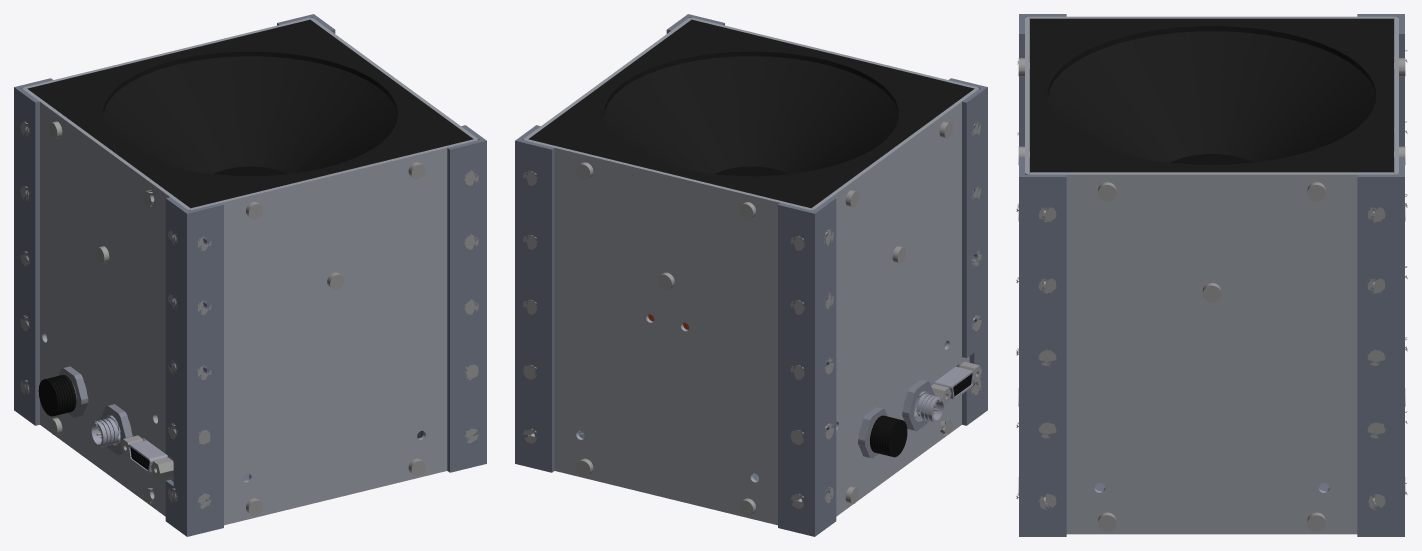
File: SLANT-1U-Assembly-2026-10-10-view.glb
3 renders of one model, left to right at view 1: azimuth 30°, elevation 25°; view 2: azimuth 150°, elevation 25°; view 3: azimuth 270°, elevation 25°, orthographic. The views are drawn at different scales.
Visible parts, largest first — view 1: 16_SLANT-H06_panel_-Y, 16_SLANT-H02_top_plate_with_baffle, 16_SLANT-H03_panel_-X_connectors, 16_SLANT-H08_corner_angle_notched_-X-Y, 16_SLANT-H07_corner_angle_+X-Y, 16_SLANT-H07_corner_angle_-X+Y, 16_blind_rivets_3_32_closed_end_40, 16_panel_screws_M2.5_x_5_pan_head_16, maintenance_port_dust_cap, 16_SLANT-H05_panel_+Y_lug_holes, power_connector_Glenair_801-009-07M5-3PA, 16_SLANT-H04_panel_+X (+5 smaller); view 2: 16_SLANT-H05_panel_+Y_lug_holes, 16_SLANT-H02_top_plate_with_baffle, 16_SLANT-H03_panel_-X_connectors, 16_SLANT-H07_corner_angle_-X+Y, 16_SLANT-H07_corner_angle_+X+Y, 16_SLANT-H08_corner_angle_notched_-X-Y, 16_blind_rivets_3_32_closed_end_40, 16_panel_screws_M2.5_x_5_pan_head_16, maintenance_port_dust_cap, power_connector_jam_nut_and_keyed_washer, 16_SLANT-H06_panel_-Y, power_connector_Glenair_801-009-07M5-3PA (+4 smaller); view 3: 16_SLANT-H04_panel_+X, 16_SLANT-H02_top_plate_with_baffle, 16_SLANT-H07_corner_angle_+X+Y, 16_SLANT-H07_corner_angle_+X-Y, 16_blind_rivets_3_32_closed_end_40, 16_panel_screws_M2.5_x_5_pan_head_16, 16_SLANT-H03_panel_-X_connectors, 16_SLANT-H08_corner_angle_notched_-X-Y, 16_SLANT-H07_corner_angle_-X+Y, 16_SLANT-H06_panel_-Y, 16_SLANT-H05_panel_+Y_lug_holes, 16_SLANT-H09_filter_cartridge.
Boxes of the visible parts, x1=… form: 16_SLANT-H06_panel_-Y: x1=187, y1=138, x2=478, y2=525; 16_SLANT-H02_top_plate_with_baffle: x1=27, y1=19, x2=473, y2=208; 16_SLANT-H03_panel_-X_connectors: x1=24, y1=89, x2=189, y2=516; 16_SLANT-H08_corner_angle_notched_-X-Y: x1=165, y1=197, x2=223, y2=536; 16_SLANT-H07_corner_angle_+X-Y: x1=447, y1=125, x2=486, y2=472; 16_SLANT-H07_corner_angle_-X+Y: x1=14, y1=78, x2=52, y2=425; 16_blind_rivets_3_32_closed_end_40: x1=20, y1=121, x2=478, y2=508; 16_panel_screws_M2.5_x_5_pan_head_16: x1=49, y1=121, x2=425, y2=515; maintenance_port_dust_cap: x1=38, y1=374, x2=76, y2=416; 16_SLANT-H05_panel_+Y_lug_holes: x1=23, y1=17, x2=313, y2=339; power_connector_Glenair_801-009-07M5-3PA: x1=90, y1=415, x2=157, y2=447; 16_SLANT-H04_panel_+X: x1=310, y1=19, x2=476, y2=138; 16_SLANT-H05_panel_+Y_lug_holes: x1=523, y1=138, x2=814, y2=525; 16_SLANT-H02_top_plate_with_baffle: x1=528, y1=19, x2=974, y2=208; 16_SLANT-H03_panel_-X_connectors: x1=812, y1=89, x2=977, y2=516; 16_SLANT-H07_corner_angle_-X+Y: x1=778, y1=197, x2=836, y2=536; 16_SLANT-H07_corner_angle_+X+Y: x1=515, y1=125, x2=554, y2=472; 16_SLANT-H08_corner_angle_notched_-X-Y: x1=949, y1=78, x2=987, y2=425; 16_blind_rivets_3_32_closed_end_40: x1=523, y1=122, x2=981, y2=508; 16_panel_screws_M2.5_x_5_pan_head_16: x1=576, y1=121, x2=952, y2=515; maintenance_port_dust_cap: x1=870, y1=415, x2=907, y2=457; power_connector_jam_nut_and_keyed_washer: x1=902, y1=380, x2=934, y2=431; 16_SLANT-H06_panel_-Y: x1=688, y1=17, x2=978, y2=346; power_connector_Glenair_801-009-07M5-3PA: x1=914, y1=391, x2=944, y2=423; 16_SLANT-H04_panel_+X: x1=1030, y1=172, x2=1393, y2=534; 16_SLANT-H02_top_plate_with_baffle: x1=1030, y1=18, x2=1393, y2=172; 16_SLANT-H07_corner_angle_+X+Y: x1=1357, y1=157, x2=1404, y2=536; 16_SLANT-H07_corner_angle_+X-Y: x1=1019, y1=157, x2=1066, y2=536; 16_blind_rivets_3_32_closed_end_40: x1=1016, y1=50, x2=1407, y2=509; 16_panel_screws_M2.5_x_5_pan_head_16: x1=1018, y1=58, x2=1405, y2=531; 16_SLANT-H03_panel_-X_connectors: x1=1030, y1=16, x2=1393, y2=18; 16_SLANT-H08_corner_angle_notched_-X-Y: x1=1019, y1=14, x2=1066, y2=174; 16_SLANT-H07_corner_angle_-X+Y: x1=1357, y1=14, x2=1404, y2=174; 16_SLANT-H06_panel_-Y: x1=1025, y1=16, x2=1029, y2=174; 16_SLANT-H05_panel_+Y_lug_holes: x1=1394, y1=16, x2=1398, y2=174; 16_SLANT-H09_filter_cartridge: x1=1171, y1=154, x2=1252, y2=164.
Size of the model in its own units: 0.1124 by 0.112 by 0.1048.
